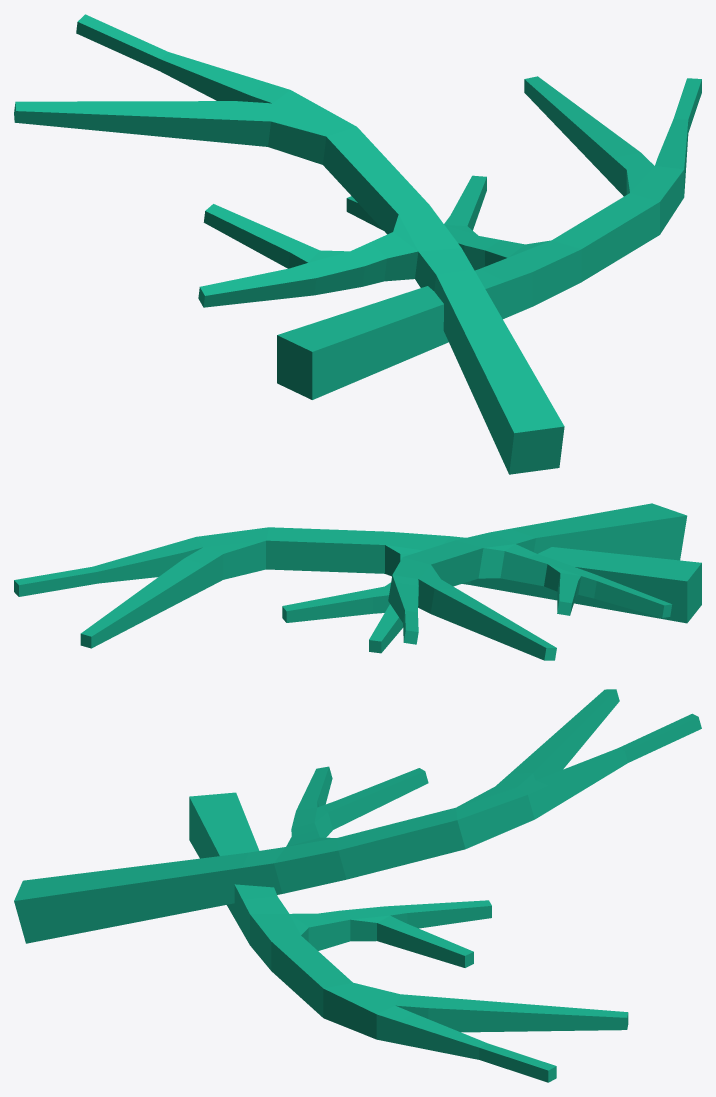
Rendered from Antlers.fbx.
3 views of the same model, one above another, from view 1: azimuth 30°, elevation 25°; view 2: azimuth 150°, elevation 25°; view 3: azimuth 270°, elevation 25° (orthographic). The views are drawn at different scales.
Visible parts, largest first — view 1: Cube.001, Cube; view 2: Cube, Cube.001; view 3: Cube.001, Cube.
Boxes of the visible parts, x1,y1,x2,y2 form: Cube.001: (14,14,564,474); Cube: (277,76,701,399); Cube: (14,527,701,653); Cube.001: (388,503,687,660); Cube.001: (14,689,701,943); Cube: (189,792,628,1082).
Size of the model in its own units: 332 by 98.9 by 336.
